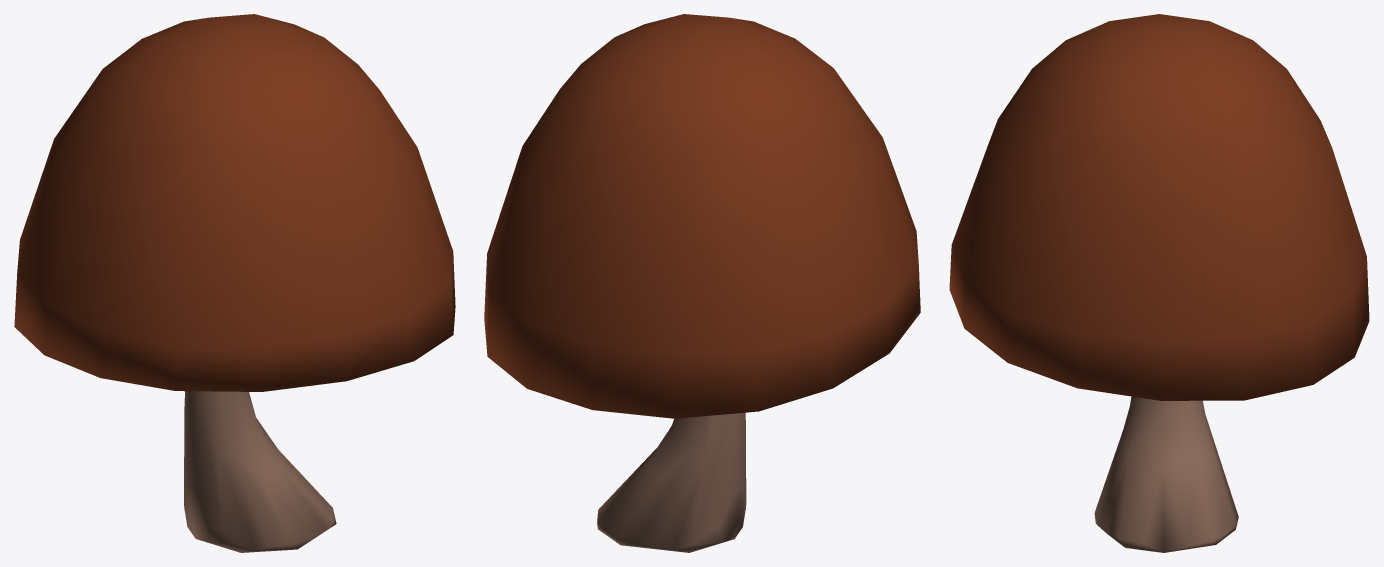
Rendered from Pilz braun.glb.
3 views of the same model, side by side, from view 1: azimuth 30°, elevation 25°; view 2: azimuth 150°, elevation 25°; view 3: azimuth 270°, elevation 25° (orthographic). The views are drawn at different scales.
Visible parts, largest first — view 1: Pilz; view 2: Pilz; view 3: Pilz.
Boxes of the visible parts, box(x1,y1,x2,y2) form: Pilz: box(14, 14, 455, 552); Pilz: box(484, 14, 920, 552); Pilz: box(949, 14, 1369, 552).
Size of the model in its own units: 0.946 by 1.2 by 0.9461.
